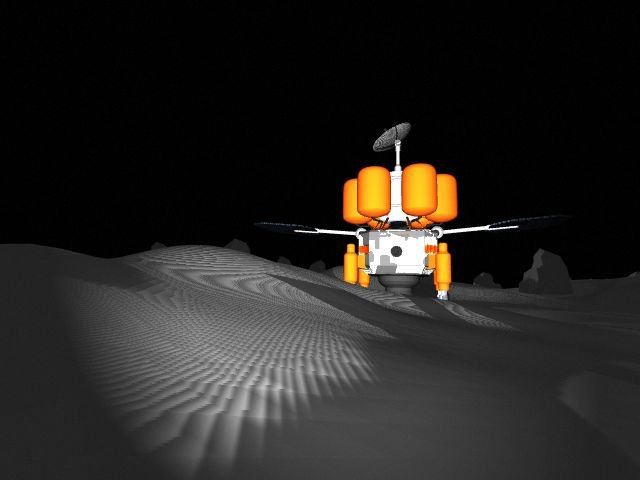homebase: (241, 120, 559, 302)
